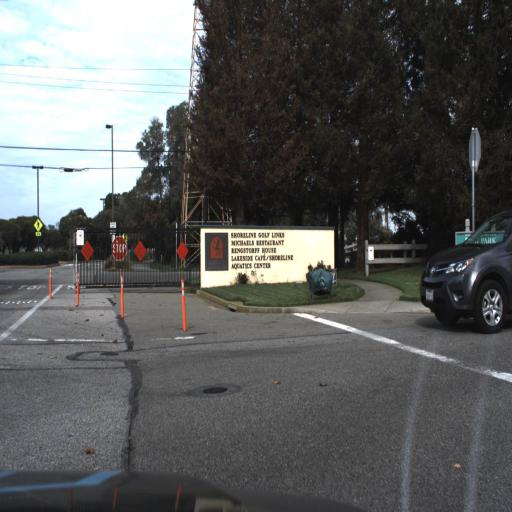car: (418, 201, 511, 344)
